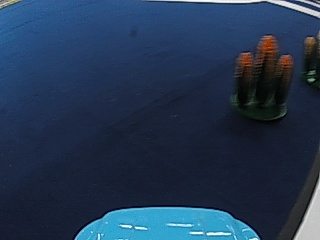corn: (230, 35, 295, 122)
